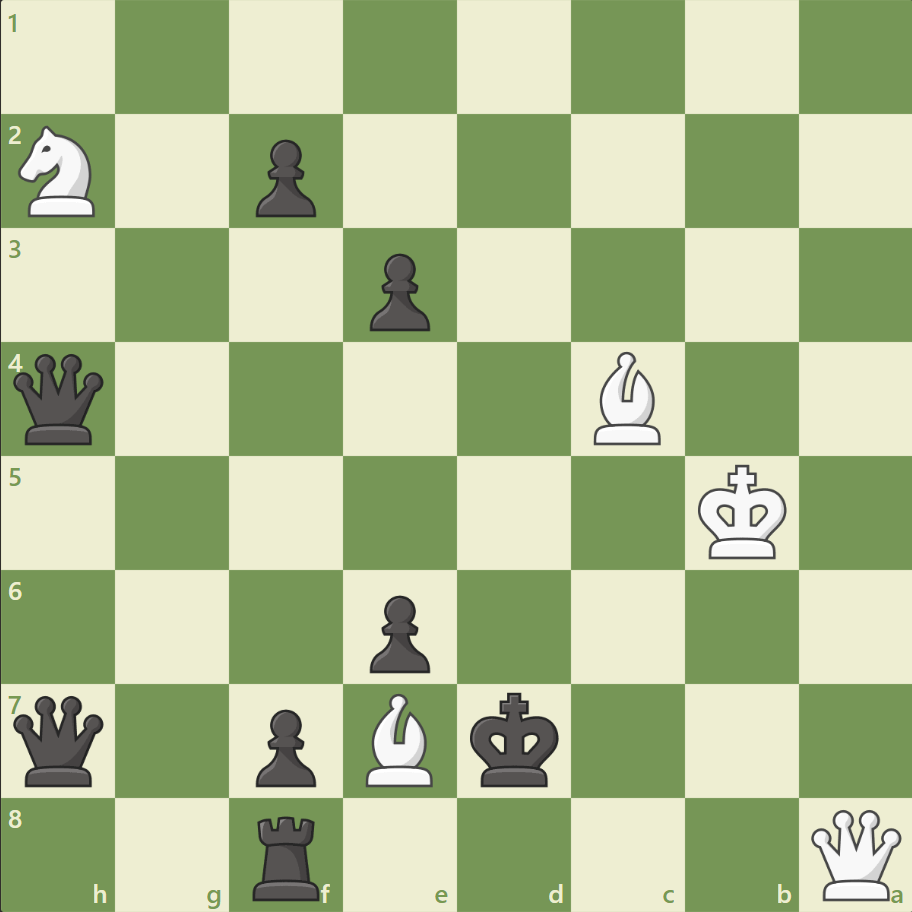B: (358, 687, 442, 790), (585, 347, 669, 449)
K: (692, 458, 792, 566)
N: (11, 121, 108, 223)
Q: (805, 804, 904, 903)
k: (465, 685, 565, 793)
p: (247, 700, 322, 791), (247, 132, 322, 223), (361, 586, 435, 677), (361, 246, 435, 337)
q: (10, 349, 109, 449), (10, 690, 109, 789)
r: (246, 806, 329, 904)
